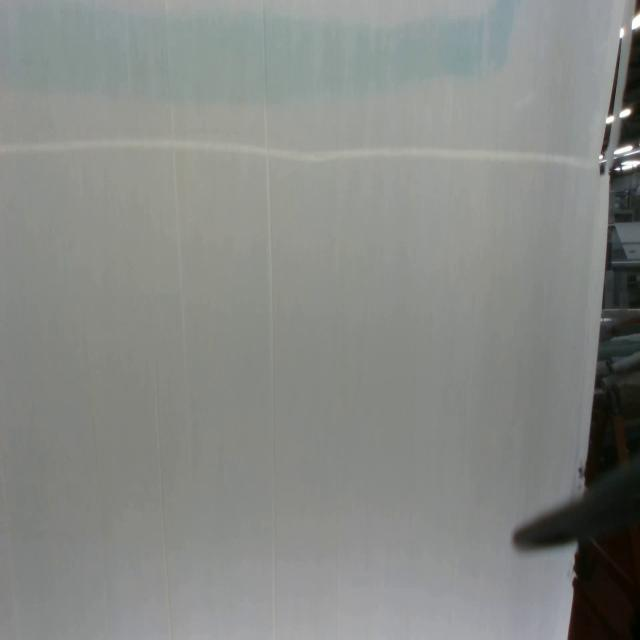color bleeding: (0, 0, 522, 98)
crease: (260, 0, 278, 639), (164, 0, 187, 380), (154, 360, 172, 640)
